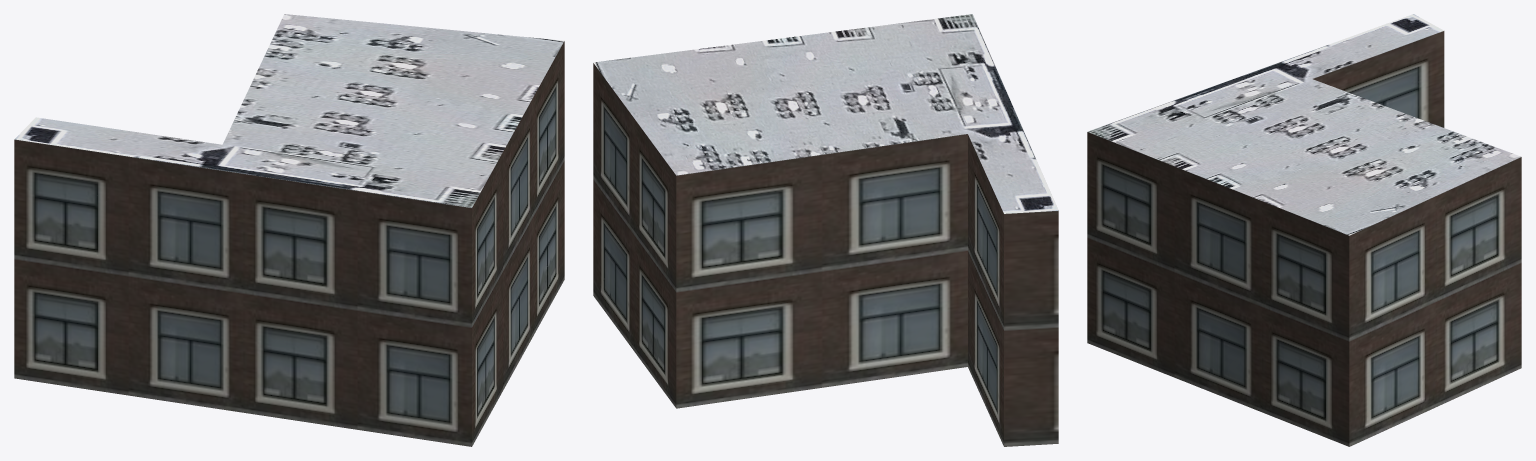
Rendered from ResTex__3562.fbx.
The picture shows the model from 3 angles, left to right: view 1: azimuth 30°, elevation 25°; view 2: azimuth 150°, elevation 25°; view 3: azimuth 270°, elevation 25°; orthographic projection. The views are drawn at different scales.
Visible parts, largest first — view 1: CityEngineMaterial_16_m, CityEngineMaterial_15_m; view 2: CityEngineMaterial_16_m, CityEngineMaterial_15_m; view 3: CityEngineMaterial_16_m, CityEngineMaterial_15_m.
Boxes of the visible parts, <box> form: CityEngineMaterial_16_m: <box>14,41,564,446</box>; CityEngineMaterial_15_m: <box>14,14,564,207</box>; CityEngineMaterial_16_m: <box>593,63,1058,446</box>; CityEngineMaterial_15_m: <box>593,14,1058,213</box>; CityEngineMaterial_16_m: <box>1087,31,1521,446</box>; CityEngineMaterial_15_m: <box>1087,14,1521,235</box>.
Bounding box in the file's own units: 13.5 × 6 × 11.18.
2 materials, 2 textured.
